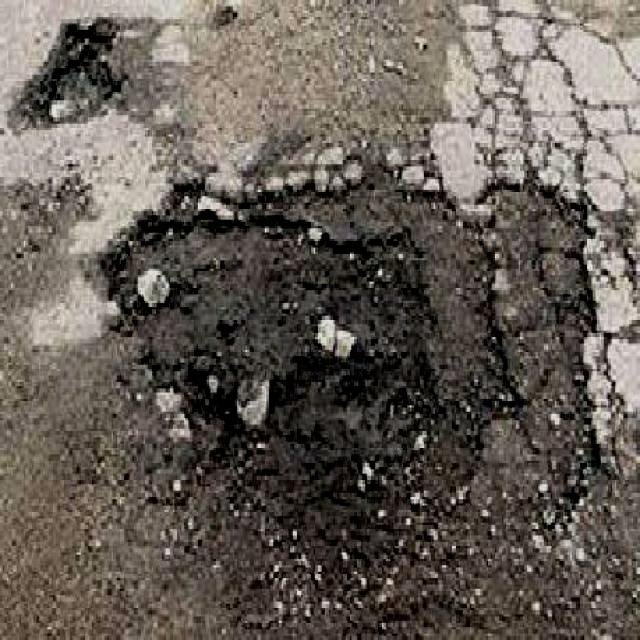Pothole: (99, 162, 510, 585), (17, 13, 130, 130)
